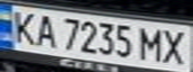2: (75, 18, 100, 55)
3: (97, 20, 118, 57)
5: (112, 22, 136, 60)
7: (54, 16, 81, 52)
A: (30, 11, 60, 48)
K: (3, 8, 42, 45)
M: (136, 25, 166, 62)
X: (157, 27, 190, 66)
